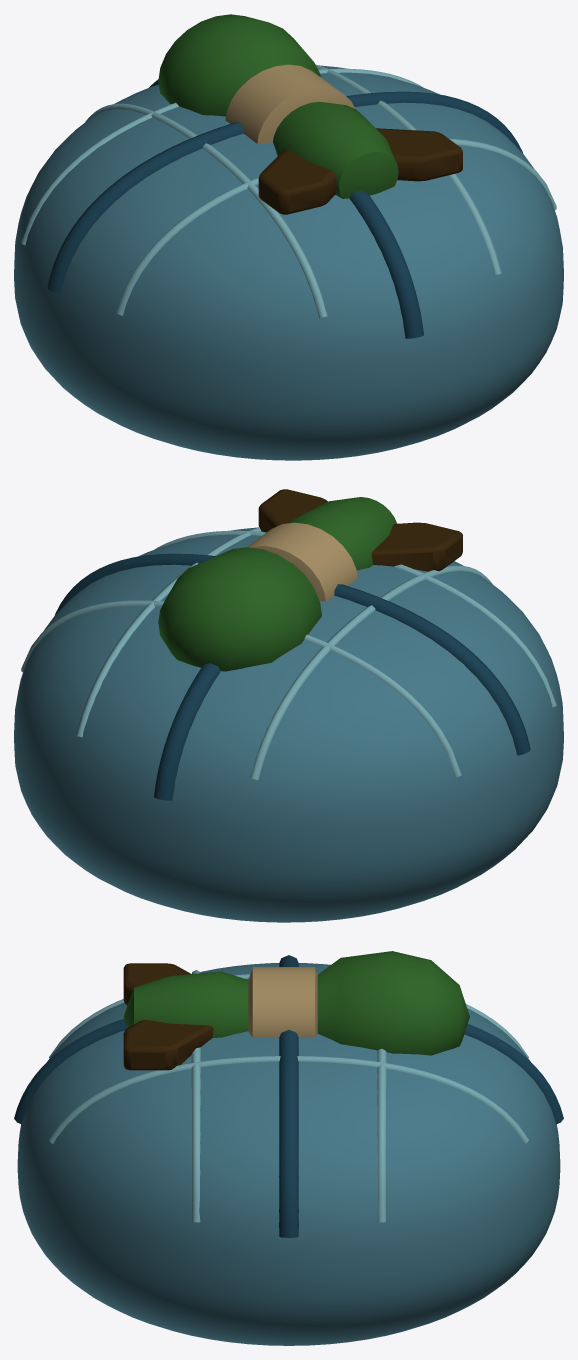
The model's file is pu_heavy_missile.glb.
The picture shows the model from 3 angles, top to bottom: view 1: azimuth 30°, elevation 25°; view 2: azimuth 150°, elevation 25°; view 3: azimuth 270°, elevation 25°; orthographic projection. The views are drawn at different scales.
Parts seen in each view (by area): view 1: orb, rocket, orb_groove_13, orb_seam_13, rocket_fins, rocket_band; view 2: orb, rocket, orb_groove_13, orb_seam_13, rocket_fins, rocket_band; view 3: orb, rocket, orb_groove_13, orb_seam_13, rocket_fins, rocket_band.
Part boxes in pixels (x1=…): orb: x1=14, y1=65, x2=563, y2=460; rocket: x1=158, y1=14, x2=398, y2=198; orb_groove_13: x1=47, y1=79, x2=523, y2=338; orb_seam_13: x1=21, y1=64, x2=556, y2=318; rocket_fins: x1=258, y1=128, x2=462, y2=214; rocket_band: x1=225, y1=64, x2=355, y2=143; orb: x1=14, y1=527, x2=563, y2=922; rocket: x1=158, y1=497, x2=397, y2=671; orb_groove_13: x1=55, y1=553, x2=530, y2=800; orb_seam_13: x1=21, y1=527, x2=556, y2=780; rocket_fins: x1=258, y1=489, x2=462, y2=571; rocket_band: x1=247, y1=522, x2=357, y2=601; orb: x1=17, y1=963, x2=560, y2=1345; rocket: x1=123, y1=951, x2=469, y2=1055; orb_groove_13: x1=14, y1=955, x2=563, y2=1237; orb_seam_13: x1=49, y1=970, x2=528, y2=1222; rocket_fins: x1=123, y1=963, x2=213, y2=1070; rocket_band: x1=248, y1=967, x2=317, y2=1037.
Bounding box in the file's own units: 20.88 × 14.14 × 21.27.
